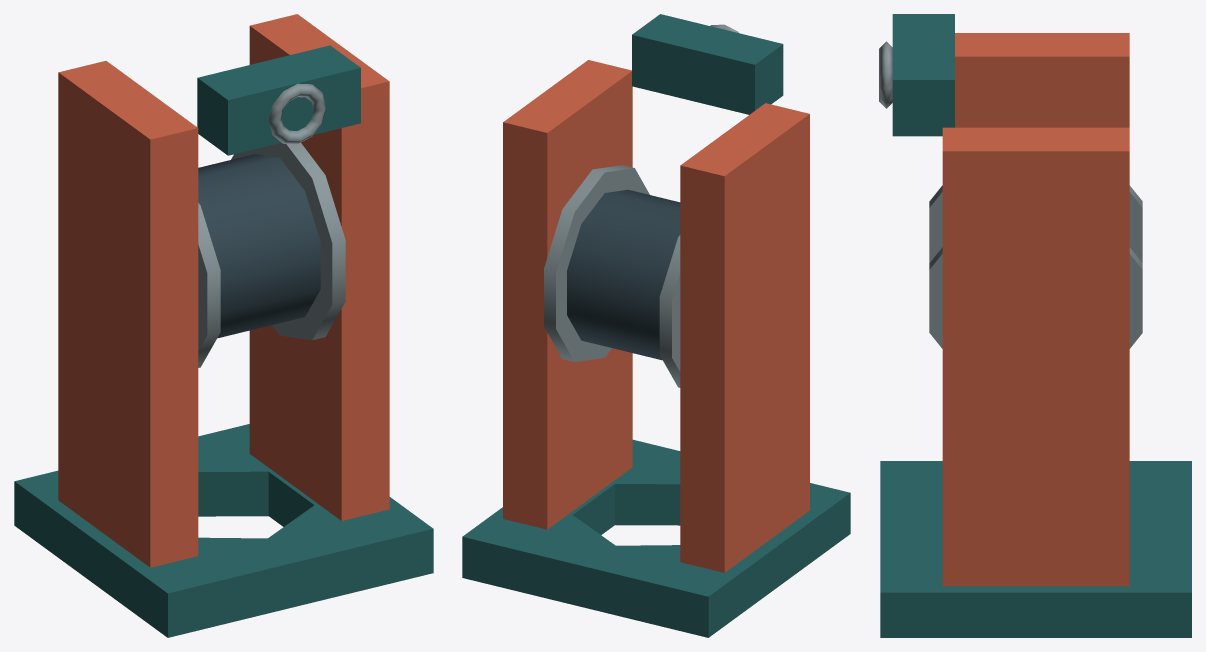
Rendered from winch-lod-2.glb.
3 renders of one model, left to right at view 1: azimuth 30°, elevation 25°; view 2: azimuth 150°, elevation 25°; view 3: azimuth 270°, elevation 25°, orthographic. The views are drawn at different scales.
Visible parts, largest first — view 1: winch_lod_2; view 2: winch_lod_2; view 3: winch_lod_2.
Part boxes in pixels (x1,y1,x2,y2): winch_lod_2: (14, 14, 433, 637); winch_lod_2: (462, 14, 850, 637); winch_lod_2: (879, 14, 1191, 637).
Bounding box in the file's own units: 1 × 1.87 × 1.
